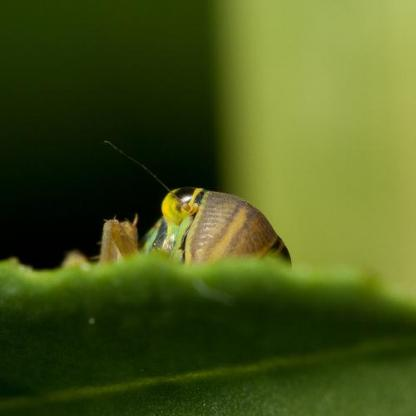Green-Leafhopper: (51, 143, 312, 291)
